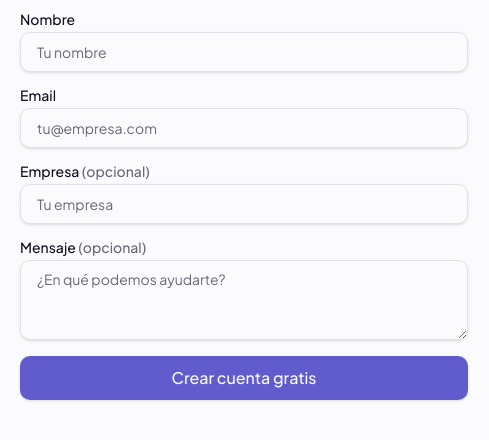
it: LeadForm › muestra error de validación con un email inválido
This screenshot has width=489, height=440.
In the field labelled "Nombre": (244, 52) x1=20 y1=32 x2=468 y2=72, type "Ada"
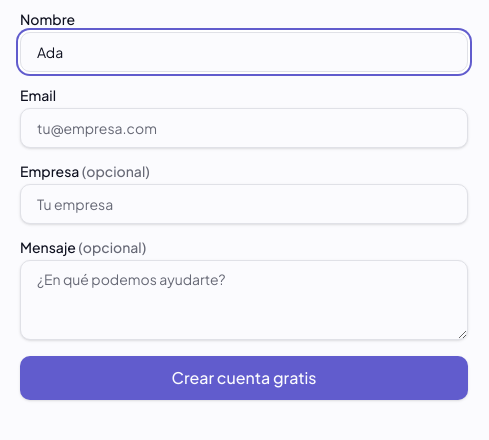
In the field labelled "Email": (244, 128) x1=20 y1=108 x2=468 y2=148, type "no-es-email"
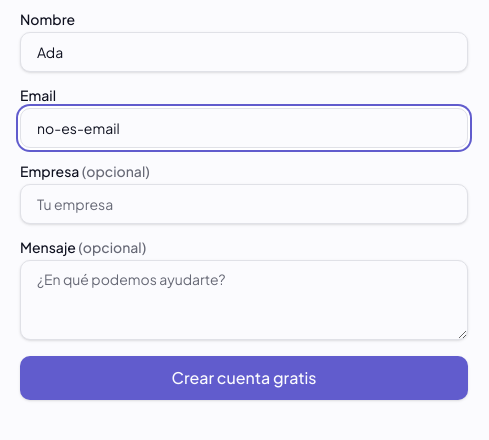
Click the button "Crear cuenta gratis": (244, 378) x1=20 y1=356 x2=468 y2=400
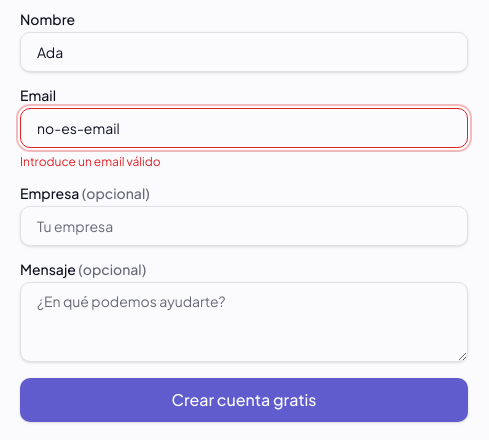
Now the text "Introduce un email válido" is shown, box x1=20 y1=154 x2=161 y2=169
